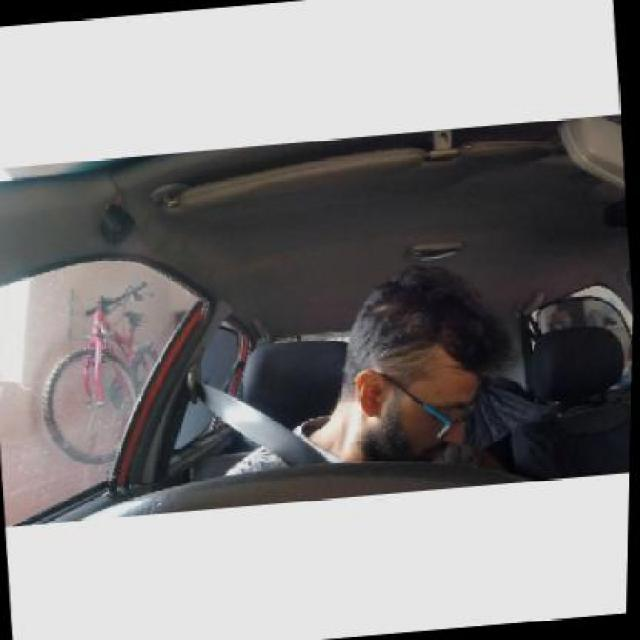drowsy: (335, 276, 481, 468)
